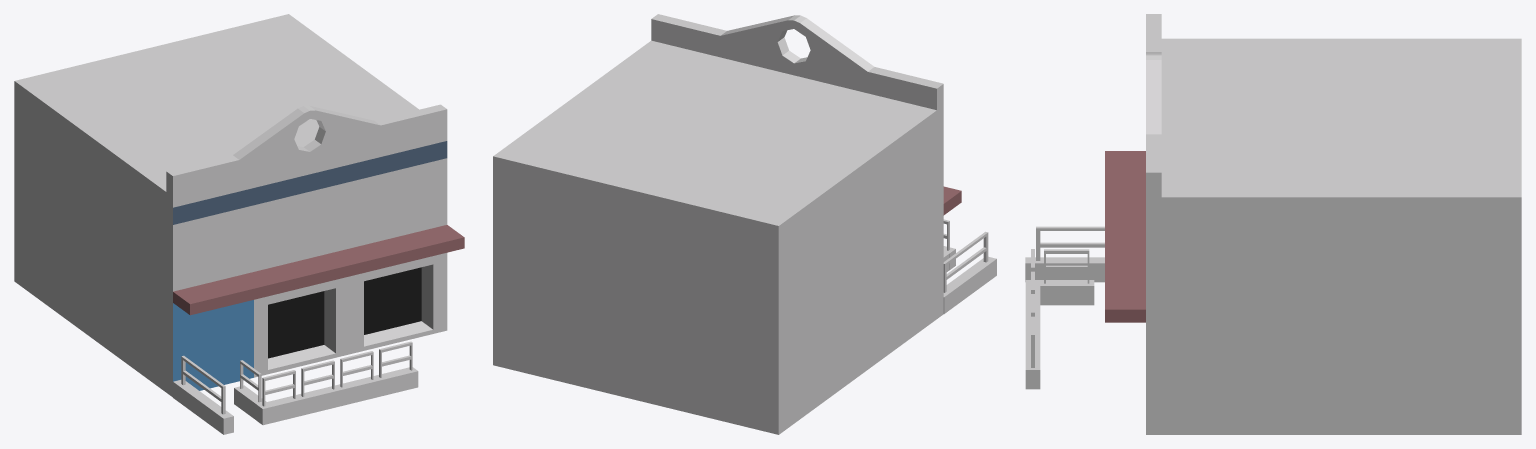
File: loja_5.fbx
3 views of the same model, side by side, from view 1: azimuth 30°, elevation 25°; view 2: azimuth 150°, elevation 25°; view 3: azimuth 270°, elevation 25° (orthographic). The views are drawn at different scales.
Visible parts, largest first — view 1: Cube; view 2: Cube; view 3: Cube.
Boxes of the visible parts, x1=… form: Cube: x1=14, y1=14, x2=464, y2=434; Cube: x1=493, y1=14, x2=996, y2=434; Cube: x1=1025, y1=14, x2=1521, y2=434.
Bounding box in the file's own units: 1733 × 1530 × 2289.
